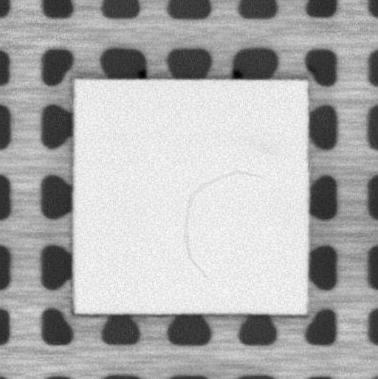DIE_CRACK: (182, 170, 265, 278)
